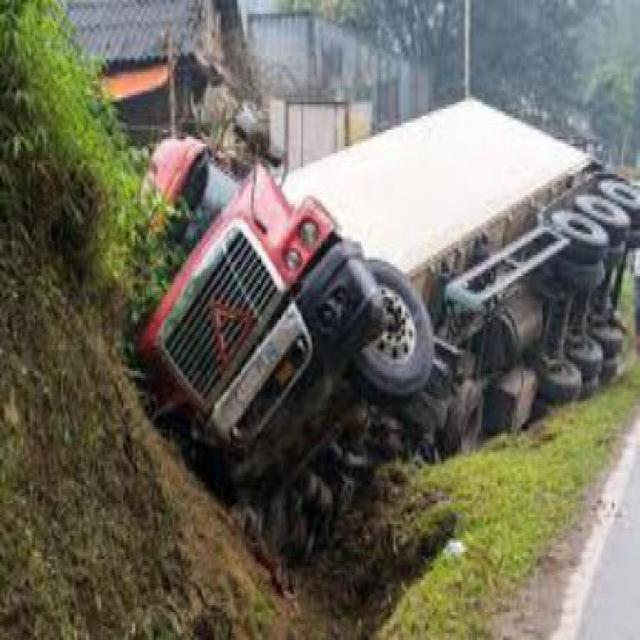accident: (109, 72, 640, 561)
